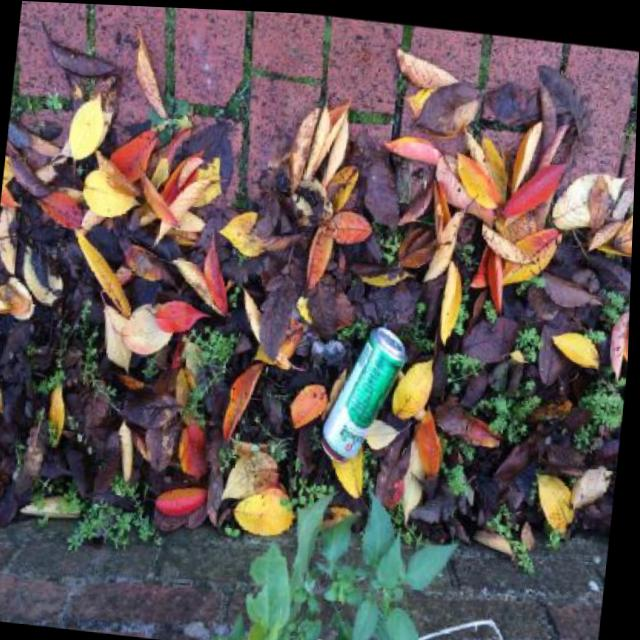metal: (318, 318, 409, 471)
